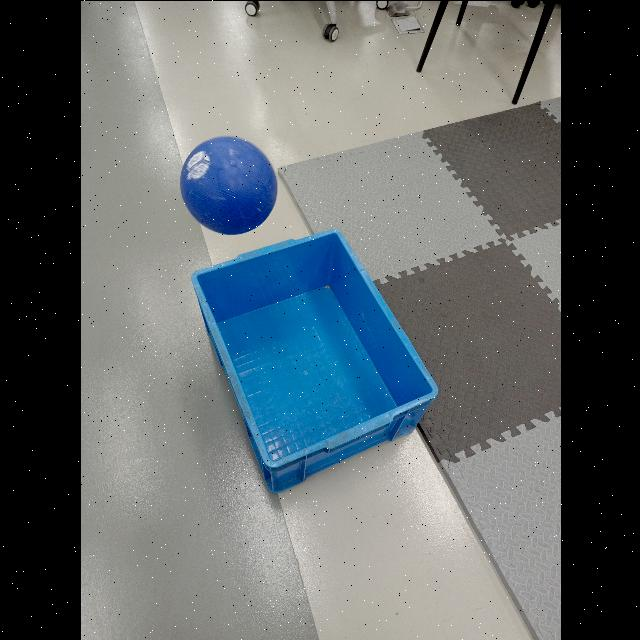B: (180, 134, 274, 236)
